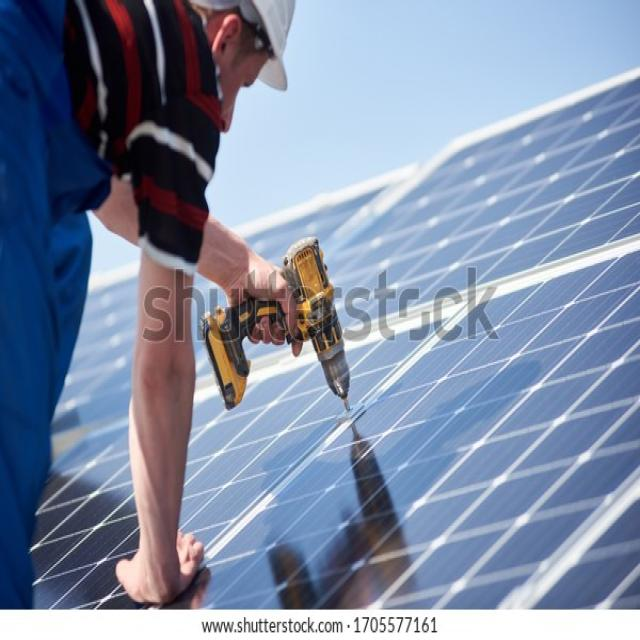clean-solar-panel: (32, 70, 640, 609)
